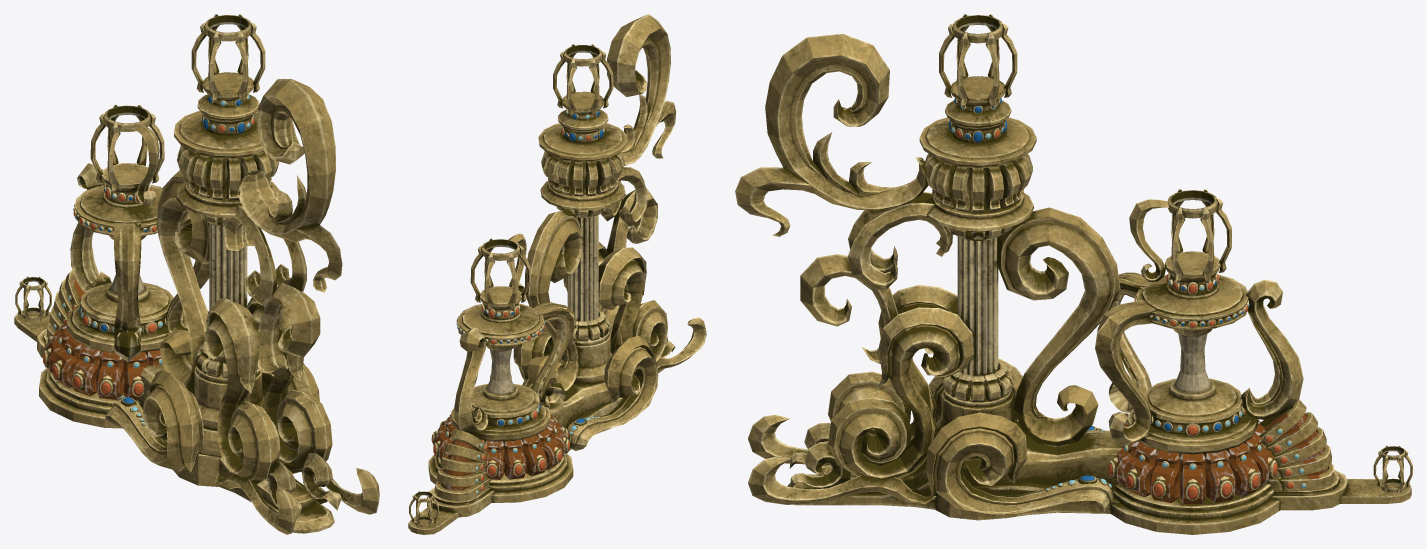
Rendered from Furniture07.fbx.
The picture shows the model from 3 angles, left to right: view 1: azimuth 30°, elevation 25°; view 2: azimuth 150°, elevation 25°; view 3: azimuth 270°, elevation 25°; orthographic projection. The views are drawn at different scales.
Visible parts, largest first — view 1: TO14_SM_GRN_Bld_Furniture07.mo; view 2: TO14_SM_GRN_Bld_Furniture07.mo; view 3: TO14_SM_GRN_Bld_Furniture07.mo.
Part boxes in pixels (box(x1,y1,x2,y2)): TO14_SM_GRN_Bld_Furniture07.mo: box(14, 14, 379, 534); TO14_SM_GRN_Bld_Furniture07.mo: box(408, 14, 706, 534); TO14_SM_GRN_Bld_Furniture07.mo: box(735, 14, 1412, 534).
Bounding box in the file's own units: 266 × 727 × 947.
Materials: 1 (1 with a texture image).
